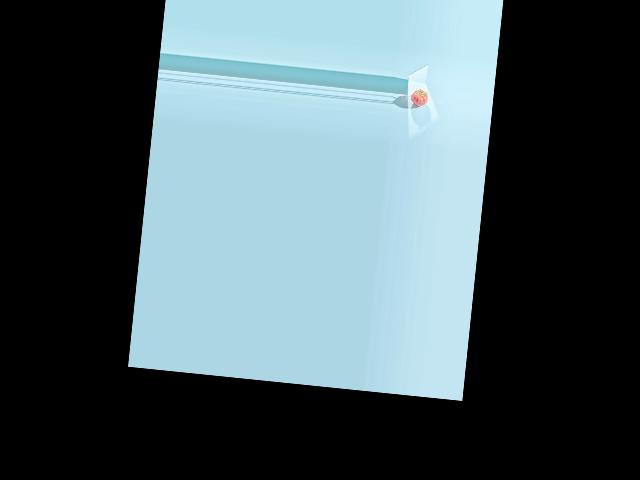tomato: (409, 88, 428, 106)
